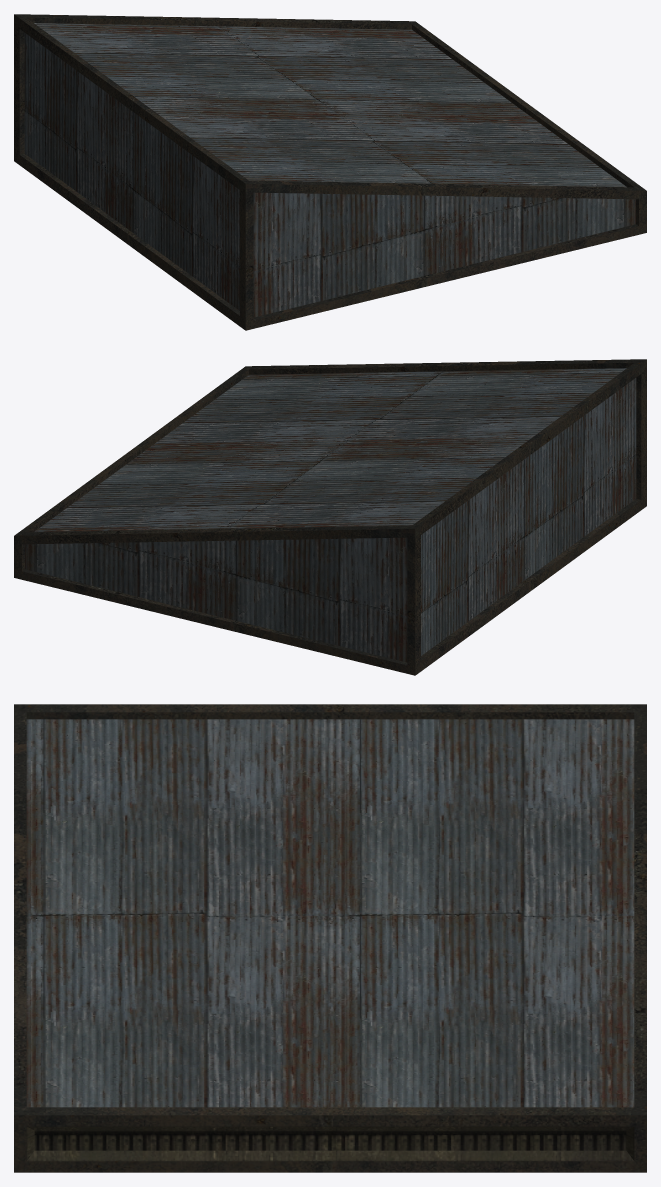
File: roof_mh_2.obj
3 views of the same model, one above another, from view 1: azimuth 30°, elevation 25°; view 2: azimuth 150°, elevation 25°; view 3: azimuth 270°, elevation 25° (orthographic). The views are drawn at different scales.
Visible parts, largest first — view 1: roof_mh_2; view 2: roof_mh_2; view 3: roof_mh_2.
Part boxes in pixels (<box>): roof_mh_2: <box>14,14,646,330</box>; roof_mh_2: <box>14,359,646,675</box>; roof_mh_2: <box>14,704,646,1172</box>.
Size of the model in its own units: 4 by 1.4 by 4.
